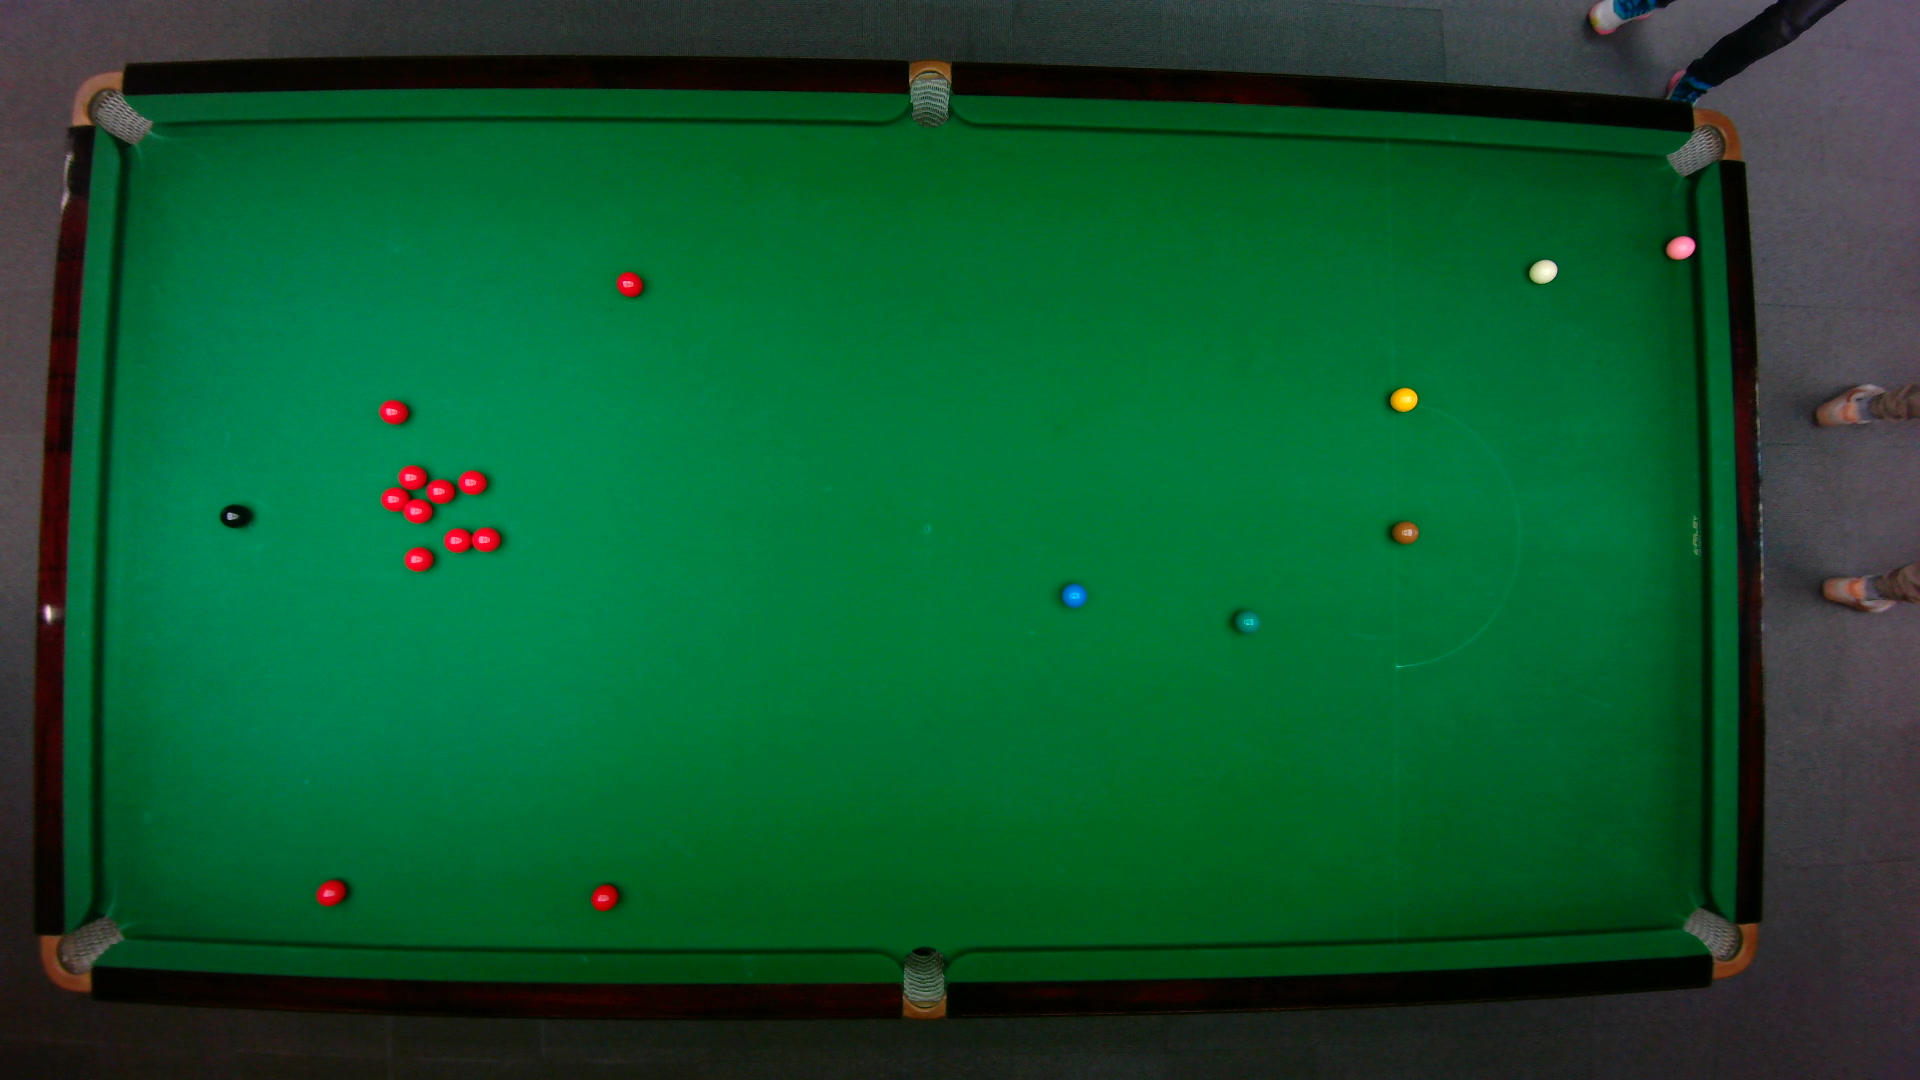bag: (38, 914, 125, 992), (69, 69, 152, 145), (1679, 905, 1756, 978), (1663, 107, 1741, 177), (901, 944, 944, 1021), (909, 57, 949, 128)
black: (218, 502, 251, 529)
blue: (1059, 582, 1088, 608)
brown: (1390, 520, 1419, 545)
green: (1232, 607, 1261, 633)
pink: (1663, 232, 1697, 260)
red: (314, 877, 347, 907), (442, 525, 473, 554), (400, 496, 433, 524), (396, 463, 429, 491), (402, 545, 434, 572), (469, 525, 501, 553), (422, 477, 456, 502), (589, 882, 618, 911), (378, 484, 409, 512), (615, 269, 644, 297), (377, 398, 407, 425), (456, 468, 487, 495)
white: (1527, 257, 1557, 284)
yellow: (1389, 385, 1419, 411)
zone: (1390, 400, 1520, 667)
